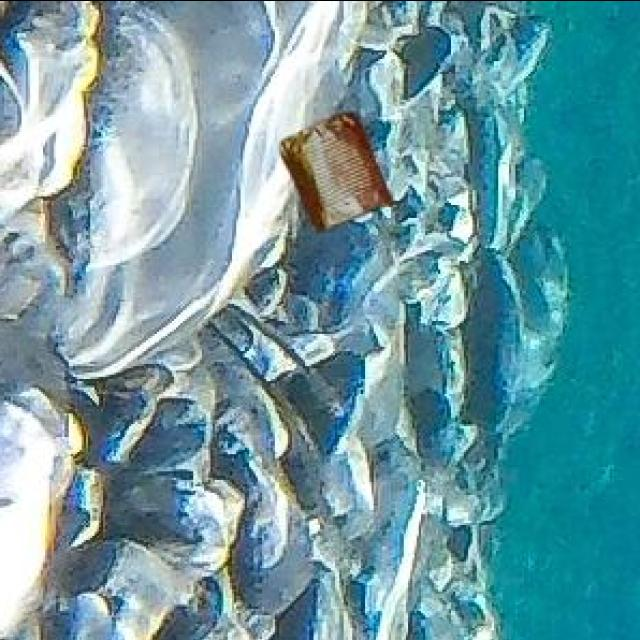logam: (282, 108, 396, 227)
